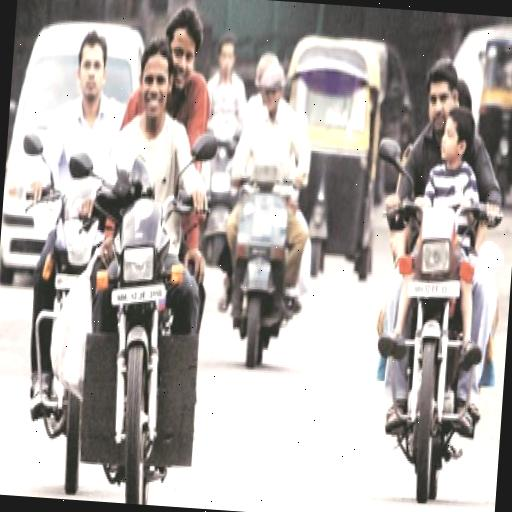helmet: (216, 51, 325, 380)
no helmet: (66, 25, 230, 490), (363, 32, 512, 498), (9, 10, 132, 478)
